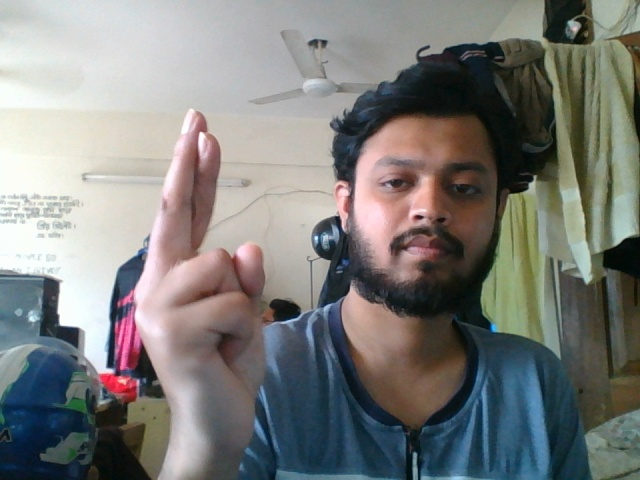r: (133, 106, 269, 477)
